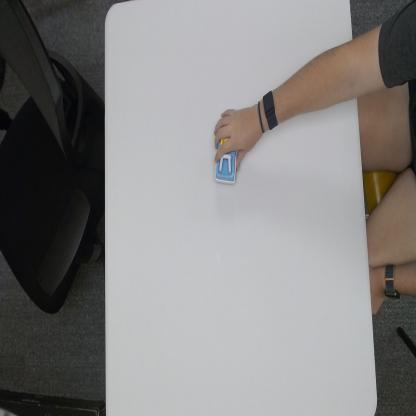Arm: (280, 40, 356, 121)
Car: (215, 119, 237, 186)
Hand: (213, 105, 260, 172)
